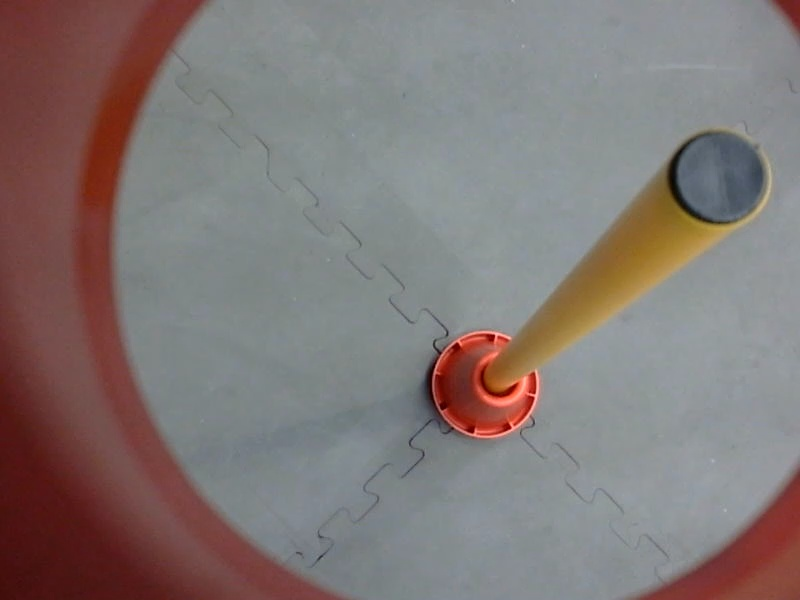tip: (661, 119, 779, 237)
